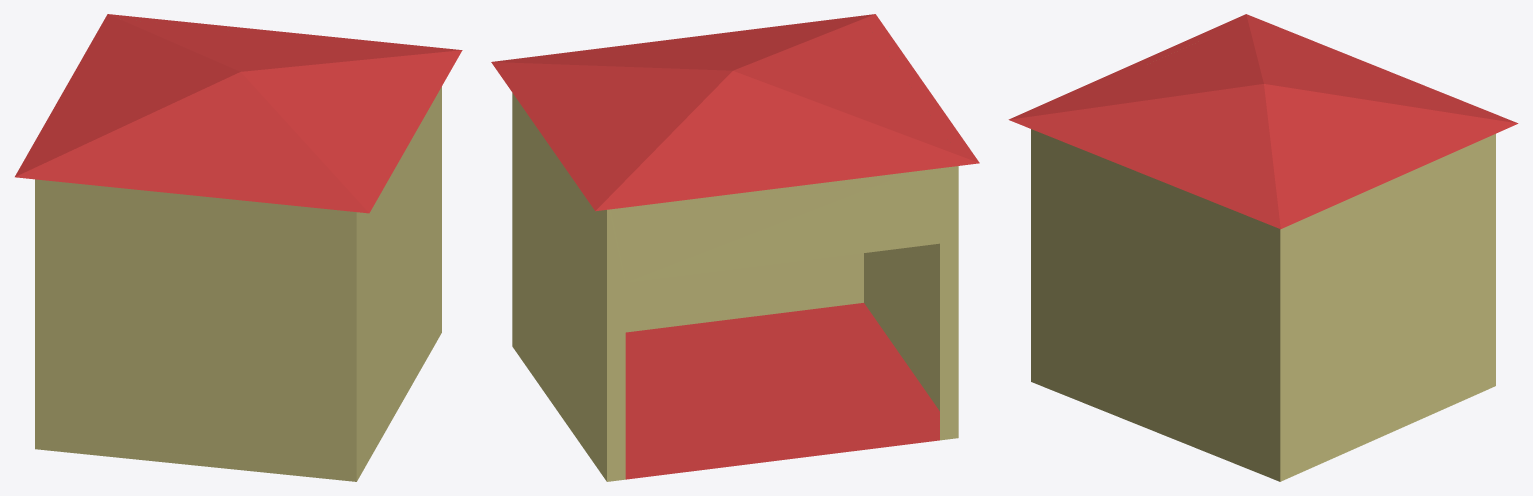
3 views of the same model, side by side, from view 1: azimuth 30°, elevation 25°; view 2: azimuth 150°, elevation 25°; view 3: azimuth 270°, elevation 25° (orthographic). The views are drawn at different scales.
Bounding box in the file's own units: 15.76 × 15.79 × 10.28.
